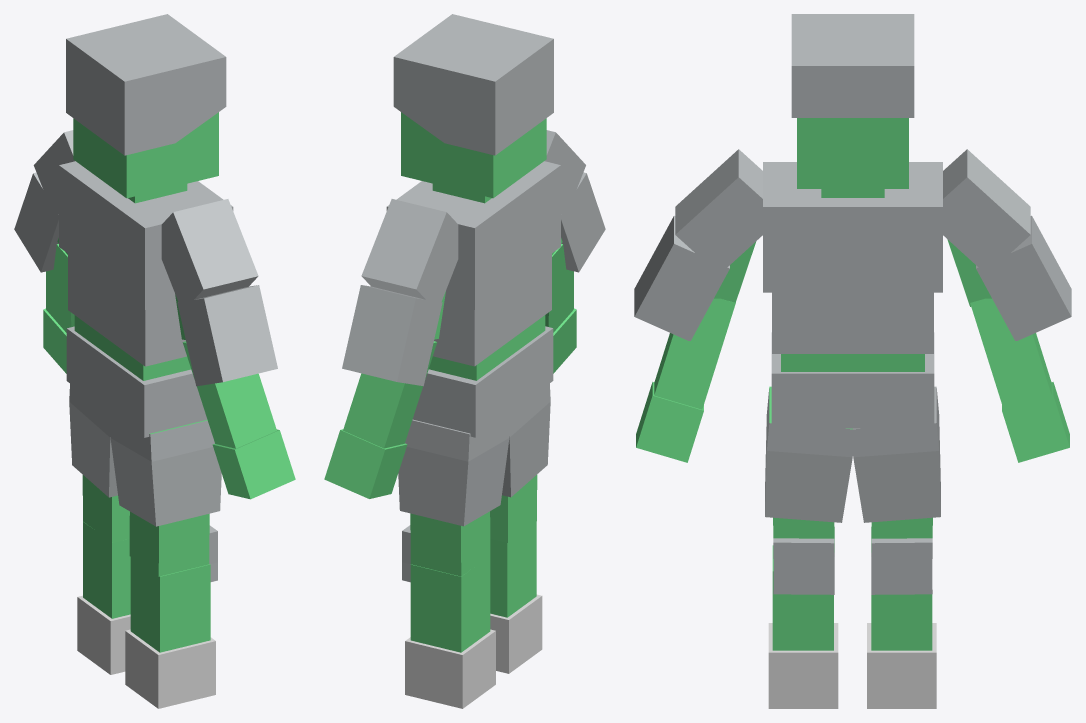
File: iron_goblin.fbx
3 views of the same model, side by side, from view 1: azimuth 30°, elevation 25°; view 2: azimuth 150°, elevation 25°; view 3: azimuth 270°, elevation 25° (orthographic). The views are drawn at different scales.
Parts seen in each view (by area): view 1: Cube.081, Cube.069, Cube.075, Cube.072, Cube.080, Cube.058, Cube.061, Cube.079, Cube.062, Cube.071, Cube.065, Cube.064 (+8 smaller); view 2: Cube.081, Cube.071, Cube.075, Cube.072, Cube.059, Cube.077, Cube.061, Cube.079, Cube.068, Cube.069, Cube.066, Cube.073 (+8 smaller); view 3: Cube.075, Cube.081, Cube.069, Cube.071, Cube.079, Cube.072, Cube.061, Cube.058, Cube.059, Cube.077, Cube.080, Cube.064 (+10 smaller).
Part boxes in pixels (x1,y1,x2,y2): Cube.081: [66, 14, 226, 155]; Cube.069: [109, 412, 221, 581]; Cube.075: [59, 161, 233, 309]; Cube.072: [66, 326, 207, 437]; Cube.080: [177, 285, 277, 386]; Cube.058: [161, 199, 258, 302]; Cube.061: [73, 112, 218, 198]; Cube.079: [68, 254, 186, 366]; Cube.062: [130, 557, 210, 652]; Cube.071: [69, 383, 129, 542]; Cube.065: [125, 629, 215, 708]; Cube.064: [182, 341, 276, 448]; Cube.081: [393, 14, 553, 155]; Cube.071: [398, 414, 509, 582]; Cube.075: [386, 161, 560, 309]; Cube.072: [412, 326, 553, 437]; Cube.059: [361, 199, 458, 311]; Cube.077: [342, 285, 442, 386]; Cube.061: [401, 112, 546, 198]; Cube.079: [433, 253, 551, 366]; Cube.068: [410, 556, 490, 652]; Cube.069: [490, 383, 550, 542]; Cube.066: [405, 629, 495, 708]; Cube.073: [343, 341, 437, 448]; Cube.075: [763, 162, 942, 292]; Cube.081: [791, 14, 914, 117]; Cube.069: [765, 386, 855, 594]; Cube.071: [851, 386, 940, 594]; Cube.079: [772, 292, 933, 353]; Cube.072: [771, 332, 934, 428]; Cube.061: [797, 118, 908, 188]; Cube.058: [675, 149, 762, 274]; Cube.059: [943, 149, 1030, 274]; Cube.077: [976, 215, 1071, 340]; Cube.080: [634, 215, 729, 340]; Cube.064: [654, 298, 735, 409].
Bounding box in the file's own units: 118 × 694 × 420.
